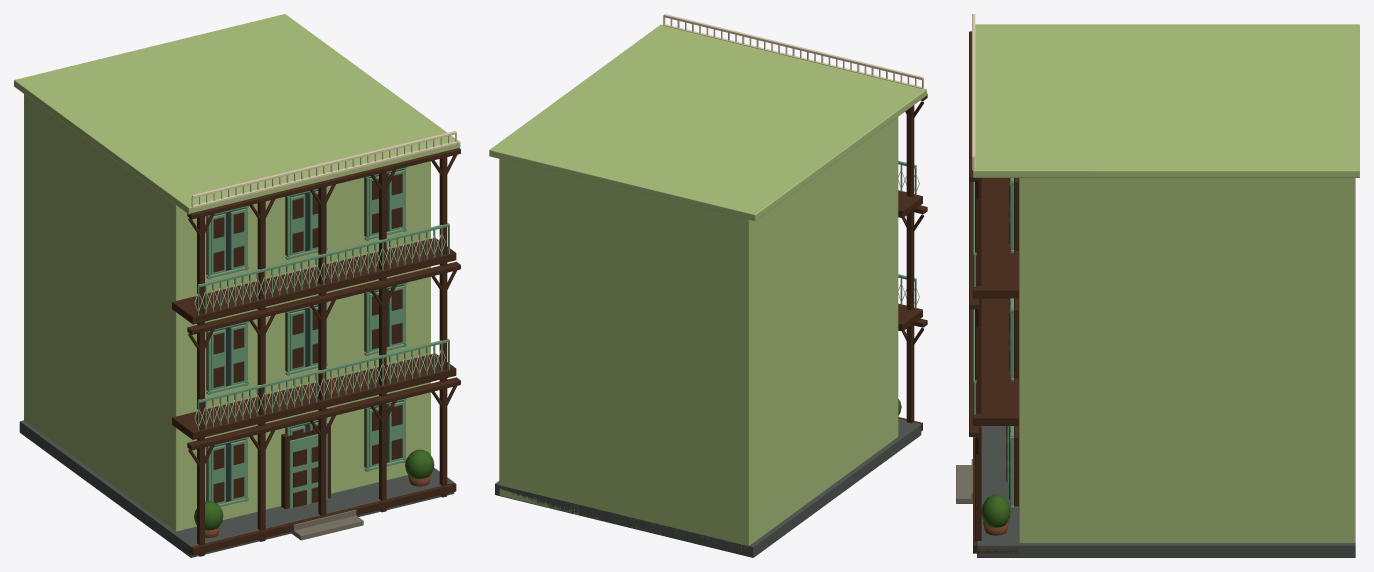
Rendered from green-wada.glb.
3 views of the same model, side by side, from view 1: azimuth 30°, elevation 25°; view 2: azimuth 150°, elevation 25°; view 3: azimuth 270°, elevation 25° (orthographic). The views are drawn at different scales.
Parts seen in each view (by area): view 1: Surface_Lime_plaster, Surface_Timber, Surface_Painted_joinery, Surface_Basalt, Surface_Trim, Surface_Recessed_glazing, Surface_Foliage, Surface_Stone_paving; view 2: Surface_Lime_plaster, Surface_Basalt, Surface_Timber, Surface_Trim; view 3: Surface_Lime_plaster, Surface_Timber, Surface_Basalt, Surface_Painted_joinery, Surface_Foliage, Surface_Stone_paving, Surface_Trim.
Boxes of the visible parts, x1,y1,x2,y2 form: Surface_Lime_plaster: (14, 14, 460, 531); Surface_Timber: (172, 148, 460, 556); Surface_Painted_joinery: (197, 167, 449, 508); Surface_Basalt: (19, 420, 454, 557); Surface_Trim: (191, 131, 456, 426); Surface_Recessed_glazing: (214, 170, 400, 500); Surface_Foliage: (194, 449, 434, 530); Surface_Stone_paving: (291, 509, 363, 540); Surface_Lime_plaster: (489, 24, 926, 551); Surface_Basalt: (495, 418, 921, 557); Surface_Timber: (898, 93, 927, 430); Surface_Trim: (663, 14, 923, 304); Surface_Lime_plaster: (973, 24, 1359, 542); Surface_Timber: (969, 31, 1018, 553); Surface_Basalt: (977, 426, 1355, 557); Surface_Painted_joinery: (973, 178, 1013, 508); Surface_Foliage: (981, 494, 1010, 527); Surface_Stone_paving: (956, 459, 972, 503); Surface_Trim: (972, 14, 975, 169).
Bounding box in the file's own units: 8.24 × 10.55 × 9.6.
